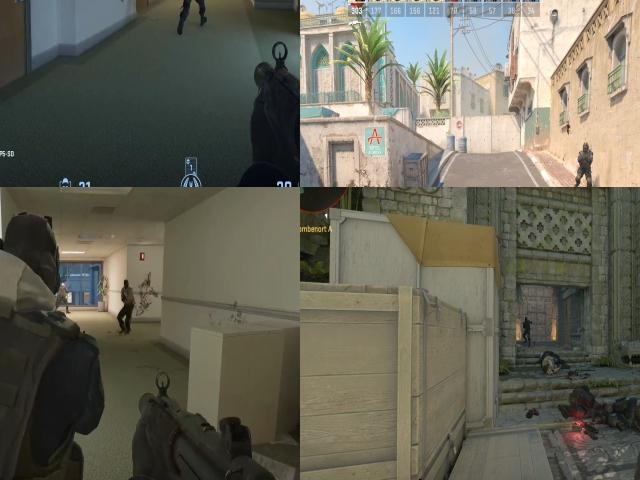Bomb: (570, 417, 587, 439)
CT: (0, 298, 114, 480), (577, 142, 593, 187), (520, 310, 535, 349)
CT-Head: (0, 198, 65, 329), (581, 144, 590, 156), (522, 313, 530, 324)
Dead: (556, 378, 605, 428), (605, 393, 640, 434), (538, 348, 566, 382)
T: (118, 273, 138, 312)
T-Head: (118, 276, 134, 292)
